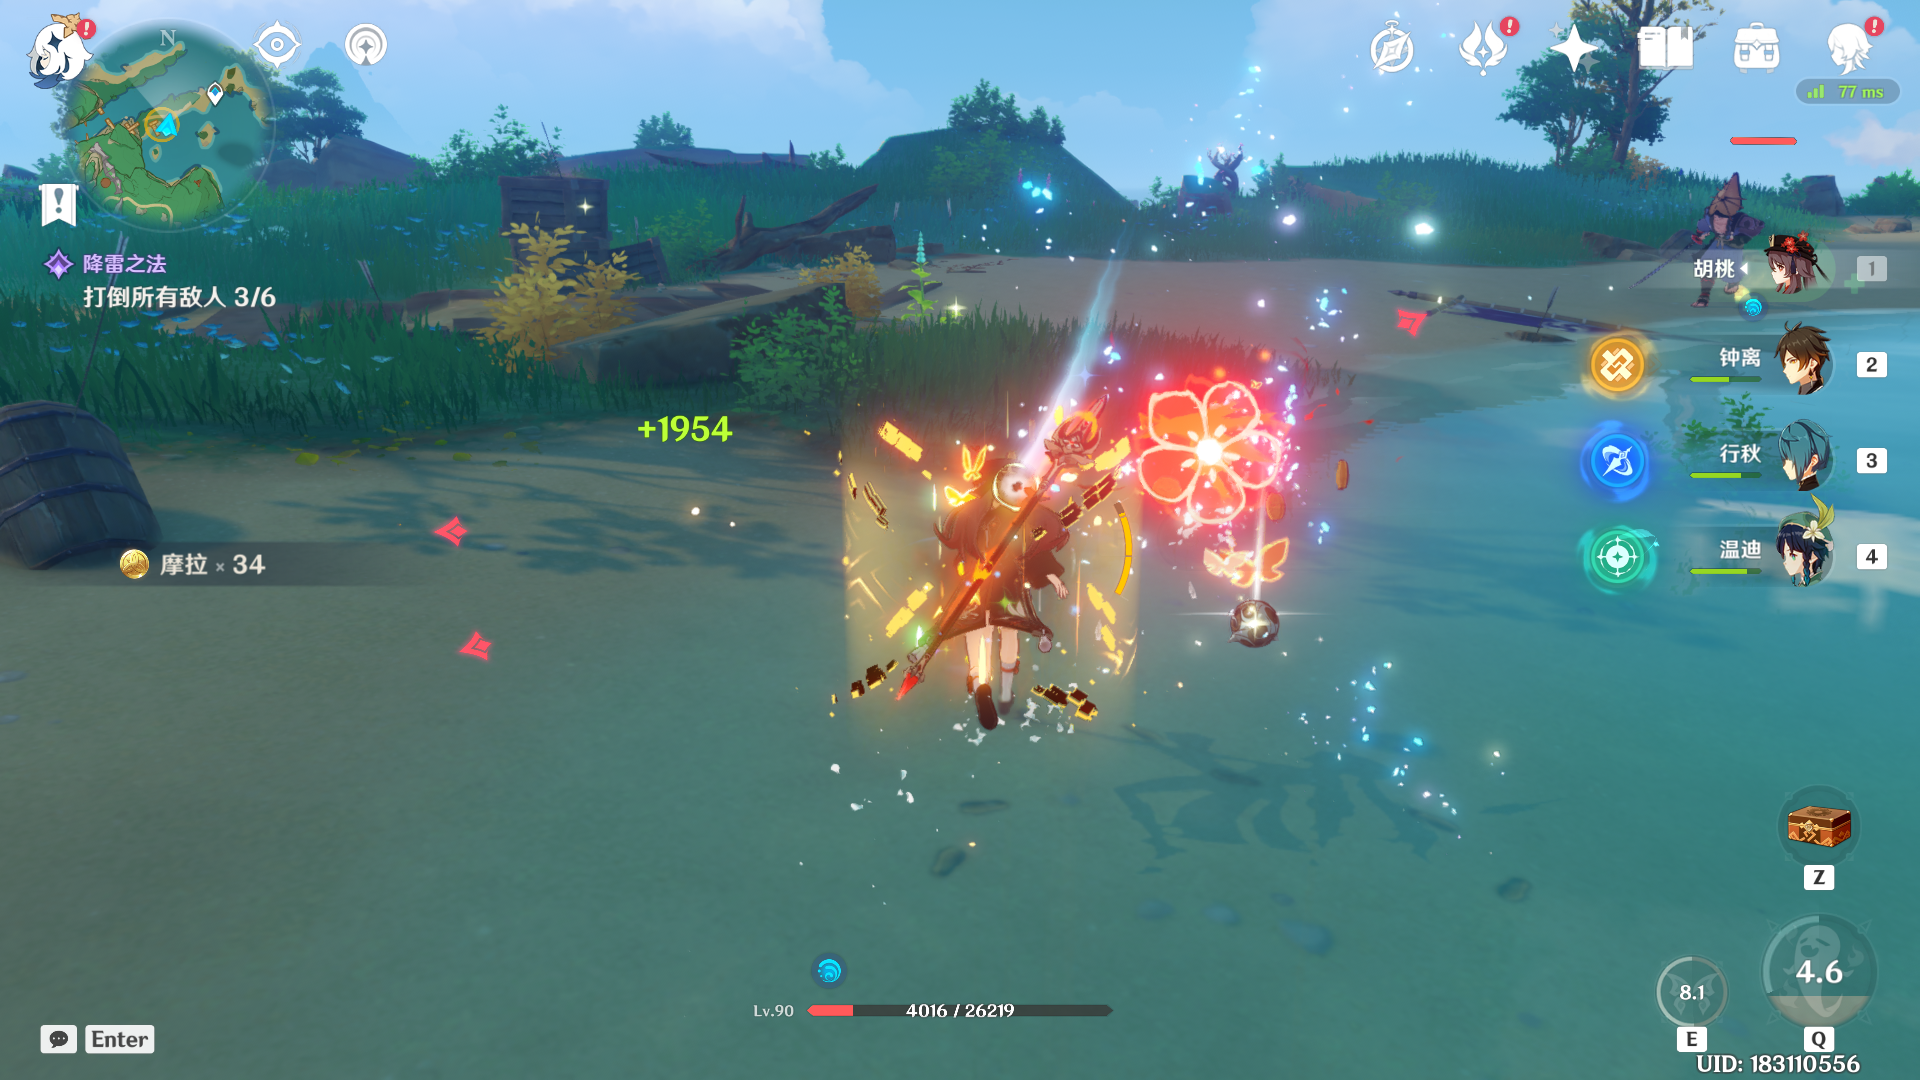character: (858, 389, 1134, 771)
